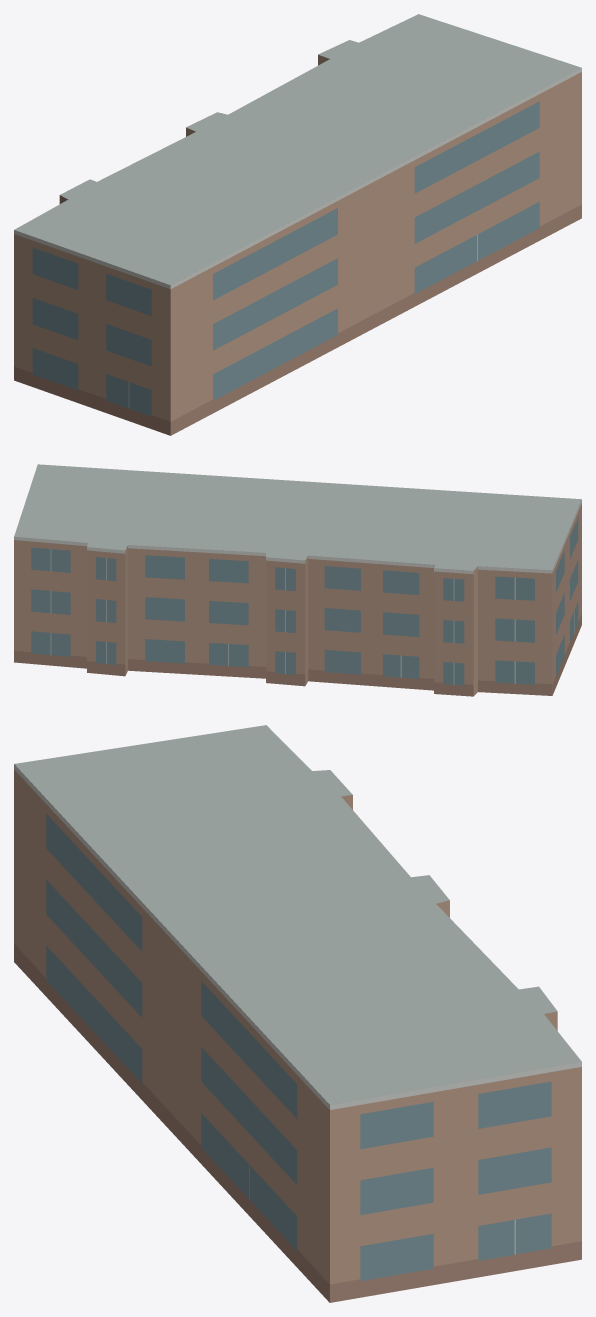
Rendered from survey-upis-32856638.glb.
3 views of the same model, one above another, from view 1: azimuth 30°, elevation 25°; view 2: azimuth 150°, elevation 25°; view 3: azimuth 270°, elevation 25° (orthographic). The views are drawn at different scales.
Visible parts, largest first — view 1: survey-upis-32856638.tmp; view 2: survey-upis-32856638.tmp; view 3: survey-upis-32856638.tmp.
Boxes of the visible parts, bbox=[...] form: survey-upis-32856638.tmp: bbox=[14, 14, 581, 435]; survey-upis-32856638.tmp: bbox=[14, 464, 581, 696]; survey-upis-32856638.tmp: bbox=[14, 725, 581, 1302].
Size of the model in its own units: 37.65 by 9.15 by 23.79.
